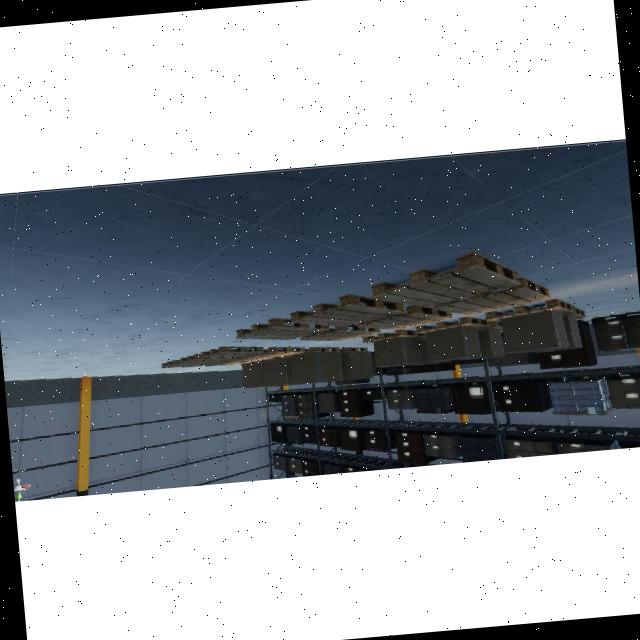wooden_pallet: (371, 248, 520, 307), (289, 292, 406, 326)
